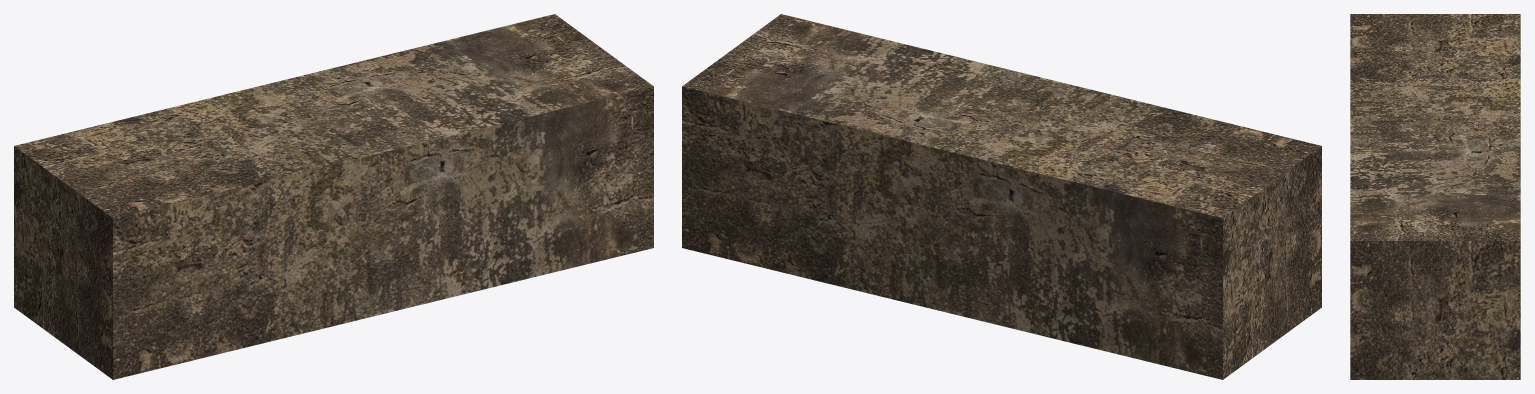
The model's file is materials_5_stonestick_short_0.fbx.
3 views of the same model, side by side, from view 1: azimuth 30°, elevation 25°; view 2: azimuth 150°, elevation 25°; view 3: azimuth 270°, elevation 25° (orthographic). The views are drawn at different scales.
Visible parts, largest first — view 1: materials_5_stonestick_short_0; view 2: materials_5_stonestick_short_0; view 3: materials_5_stonestick_short_0.
Boxes of the visible parts, left/top/right/bottom form: materials_5_stonestick_short_0: left=14, top=14, right=653, bottom=379; materials_5_stonestick_short_0: left=682, top=14, right=1321, bottom=379; materials_5_stonestick_short_0: left=1350, top=14, right=1520, bottom=379.
Size of the model in its own units: 123 by 35.07 by 38.91.
